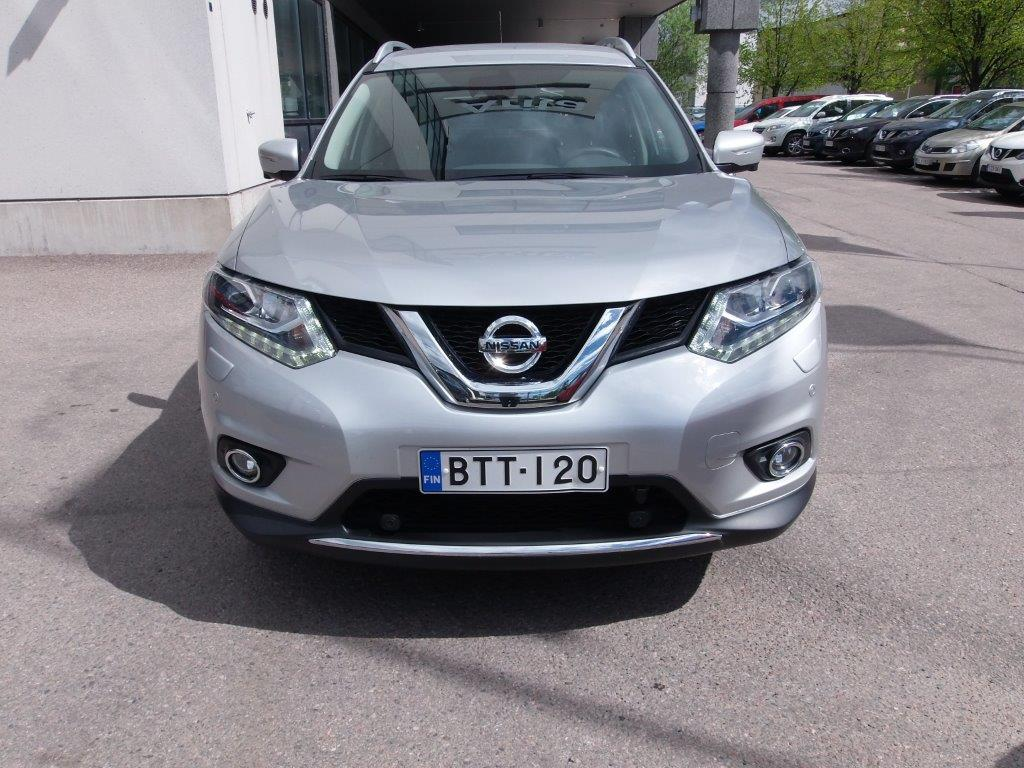license: (423, 450, 607, 495)
